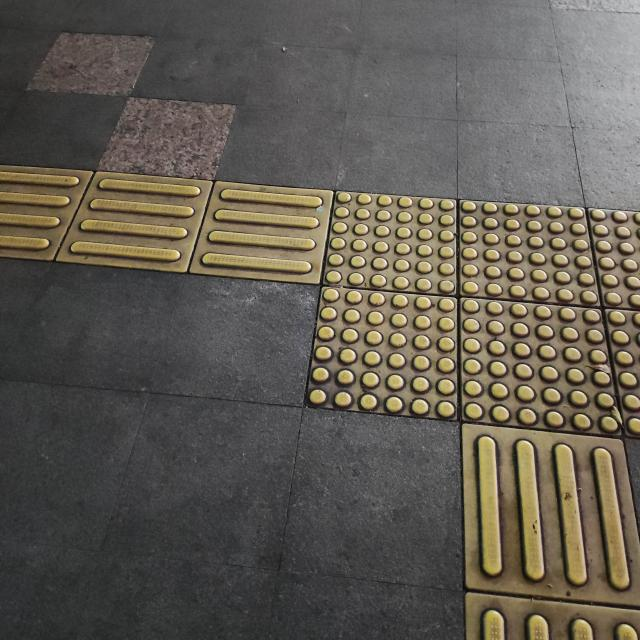kiri: (132, 204, 640, 567)
